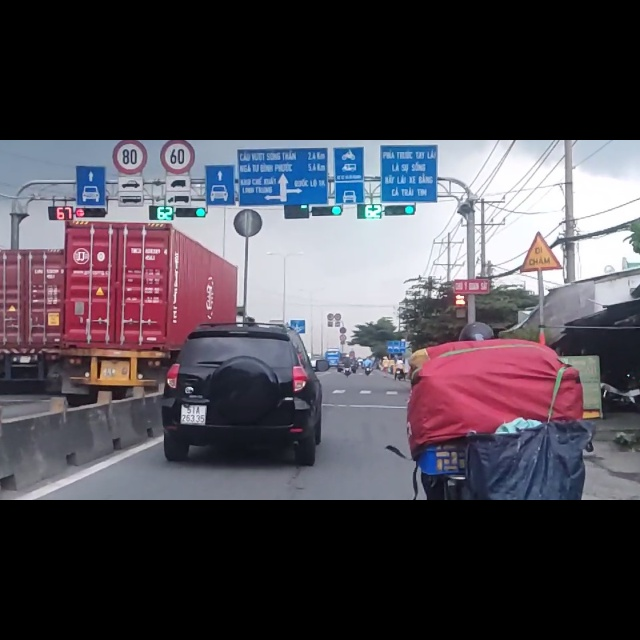bien_nguy_hiem: (519, 161, 562, 236), (112, 1, 147, 63), (160, 1, 195, 60)
